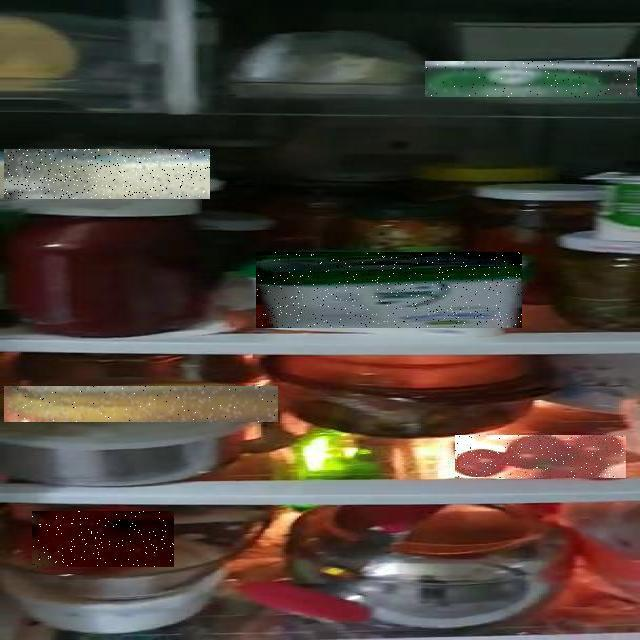Banana: (4, 386, 278, 422)
Cheese: (257, 252, 523, 328), (4, 149, 210, 199)
Cream: (425, 61, 637, 97)
Tomato Paste: (32, 511, 174, 567), (455, 435, 626, 478)
